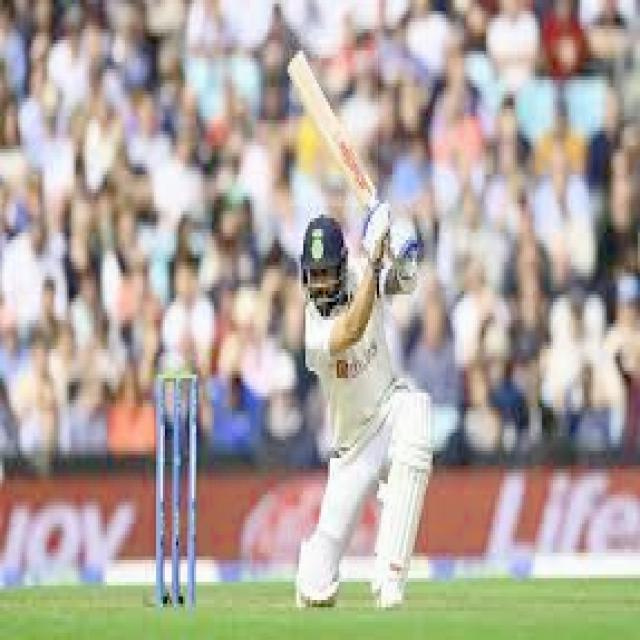bat: (283, 52, 380, 203)
toe: (285, 49, 307, 73)
